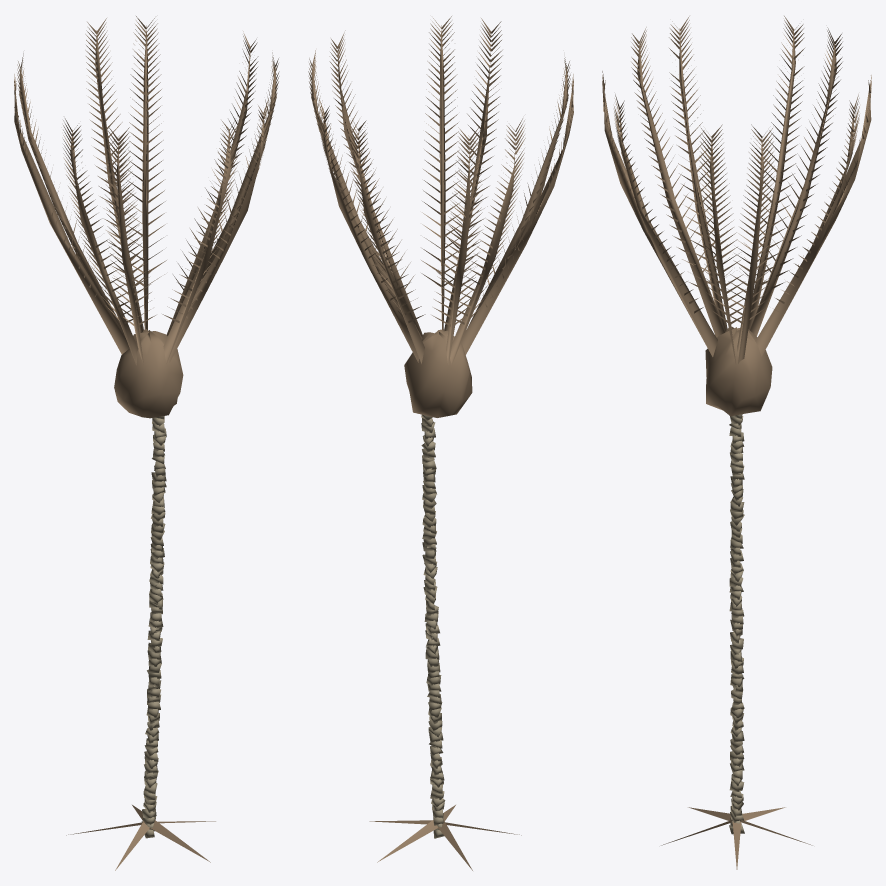
The model's file is devonian-crinoid.glb.
3 renders of one model, left to right at view 1: azimuth 30°, elevation 25°; view 2: azimuth 150°, elevation 25°; view 3: azimuth 270°, elevation 25°, orthographic.
Parts seen in each view (by area): view 1: devonian-crinoid; view 2: devonian-crinoid; view 3: devonian-crinoid.
Boxes of the visible parts, left/top/right/bottom form: devonian-crinoid: left=14, top=16, right=279, bottom=870; devonian-crinoid: left=308, top=16, right=573, bottom=870; devonian-crinoid: left=602, top=16, right=871, bottom=869.
Size of the model in its own units: 0.6778 by 2.2 by 0.6995.
